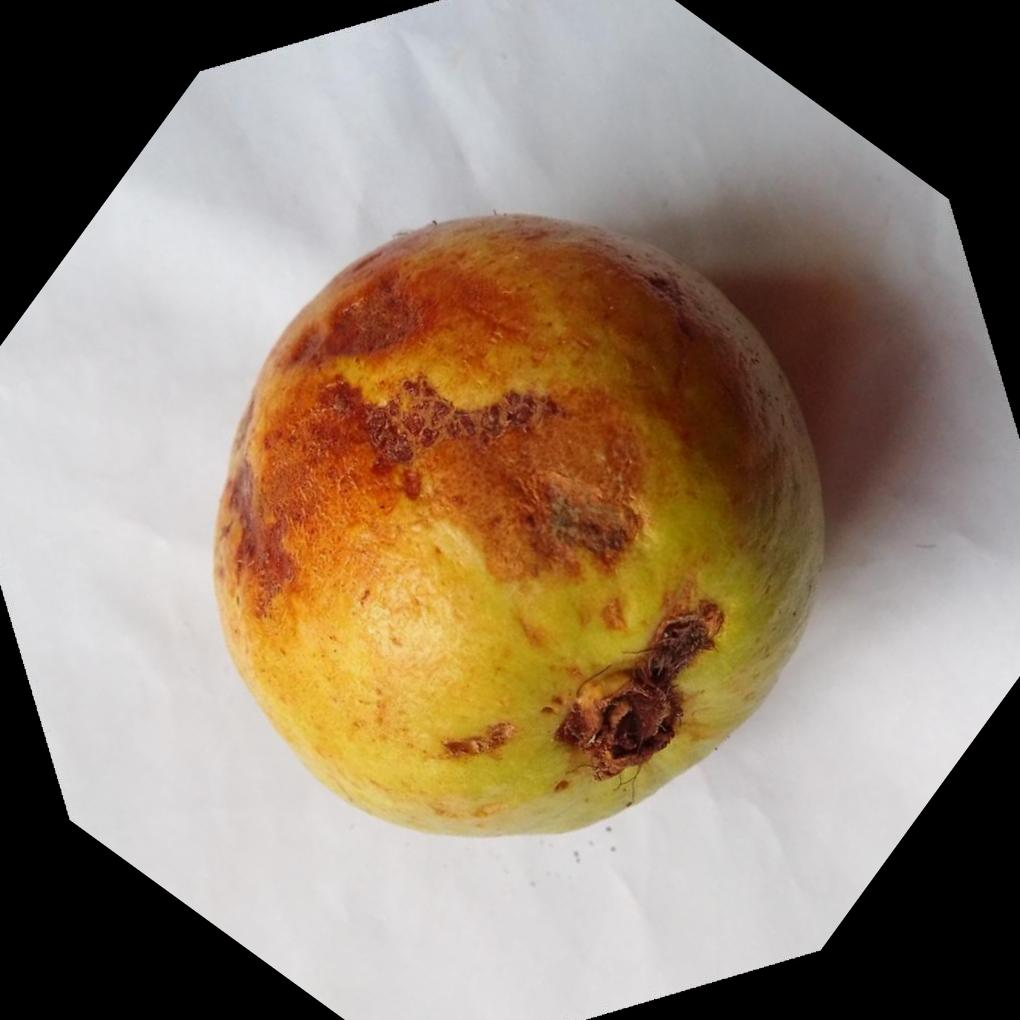FreshOrange: (210, 208, 832, 840)
